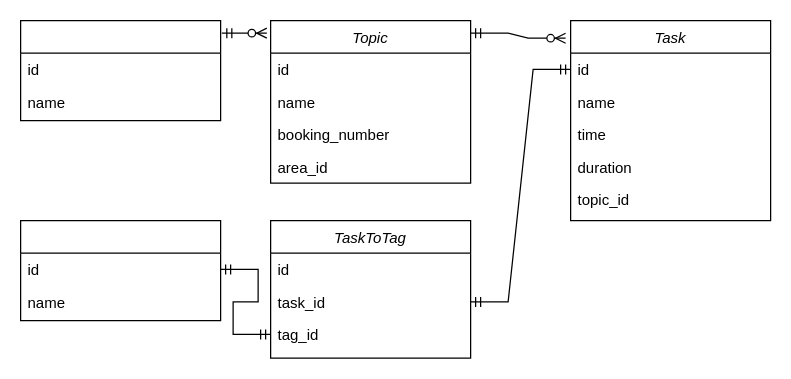
The diagram is 791 pixels wide and 379 high, and some of its shapes have lost their labels. The box of each missing label's shape, as (x1, y1, x2, y2) in pixels:
Area: (19, 19, 221, 121)
Tag: (19, 219, 221, 321)
